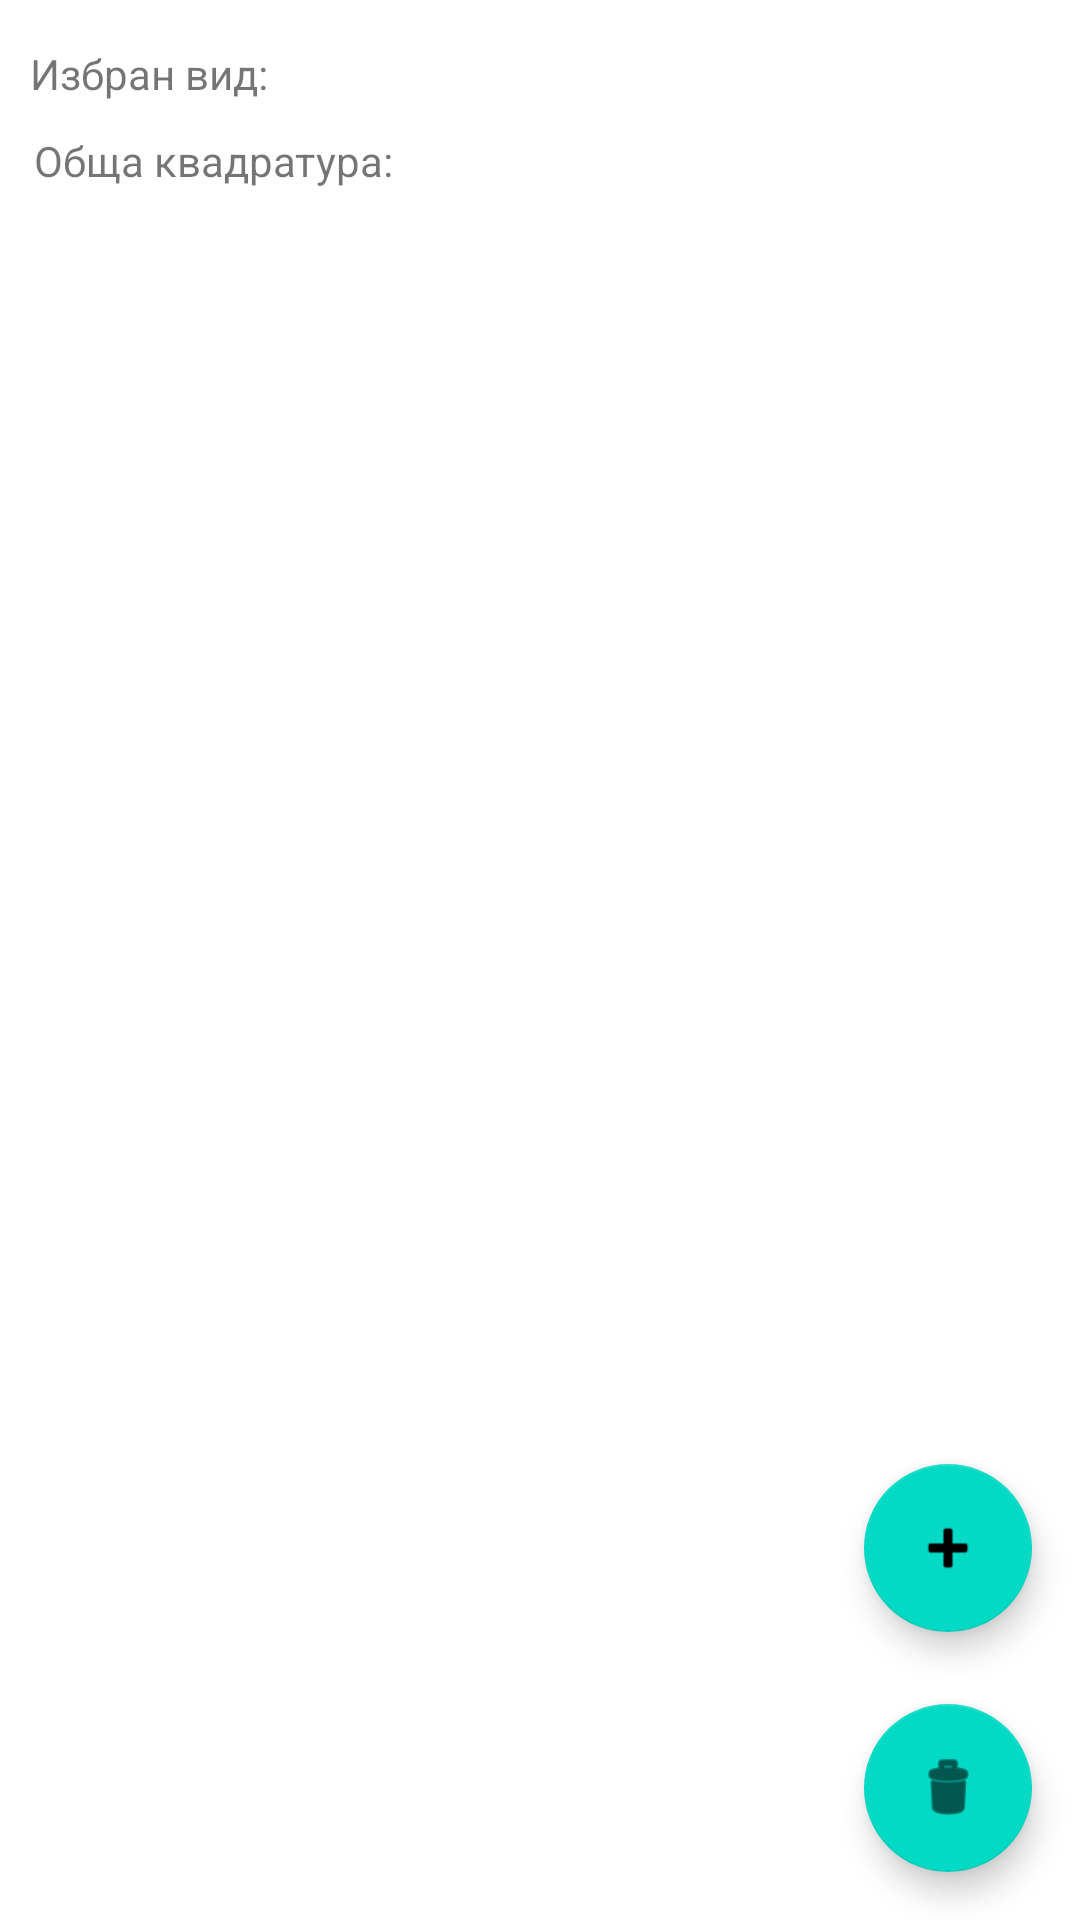

Where to tap for icons on this 1080px x 1920px app screen, as point (x, y):
add: point (948, 1548)
delete: point (948, 1788)
